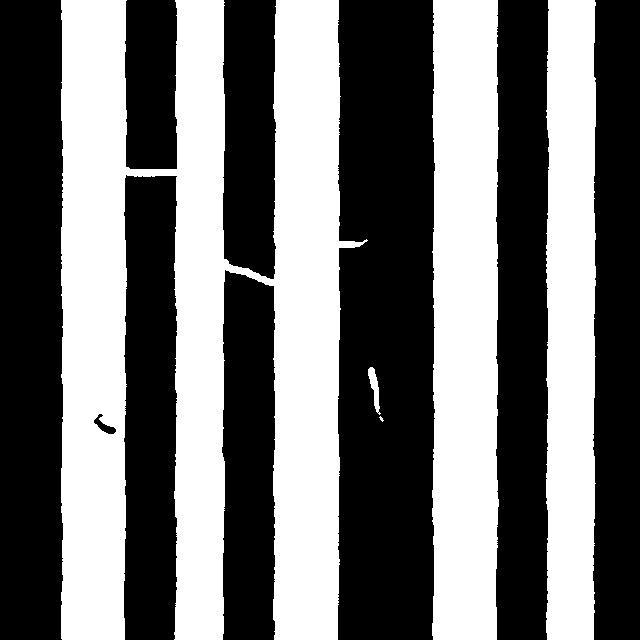copper: (84, 404, 125, 443)
mousebite: (325, 229, 377, 257)
open: (210, 249, 286, 295), (104, 157, 189, 186)
pin-hole: (358, 357, 393, 431)
